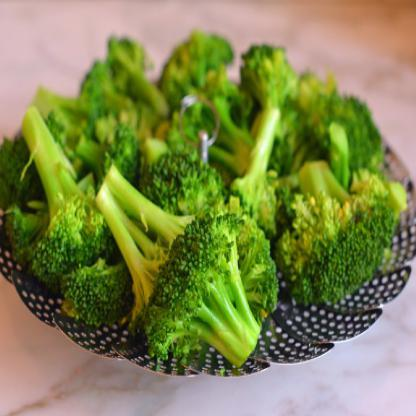broccoli: (0, 25, 409, 364)
